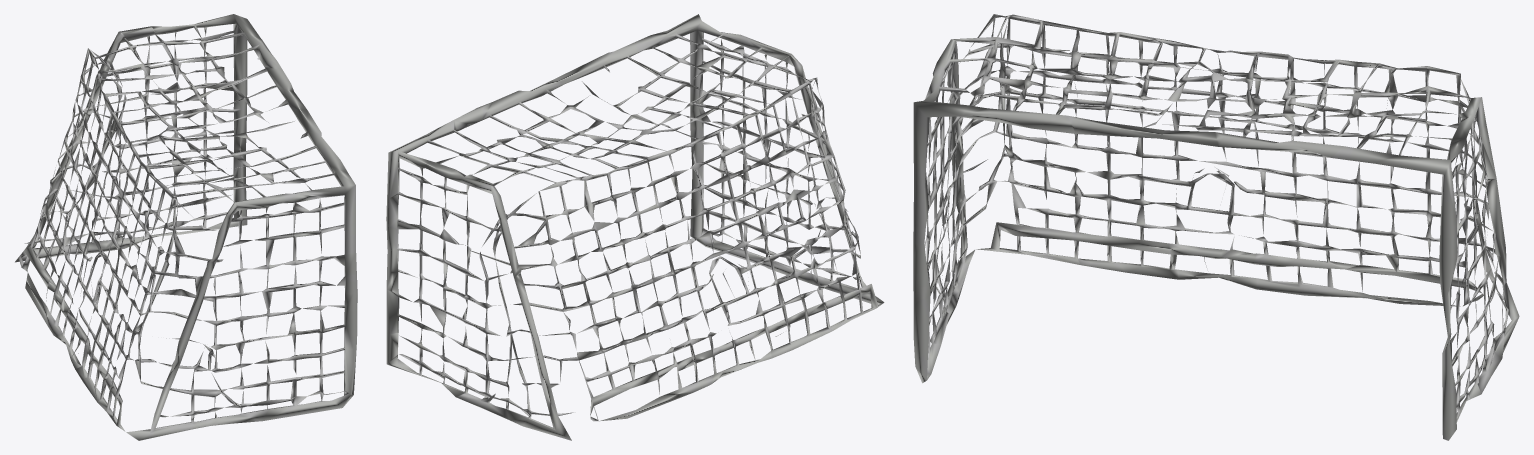
The model's file is goal.glb.
3 renders of one model, left to right at view 1: azimuth 30°, elevation 25°; view 2: azimuth 150°, elevation 25°; view 3: azimuth 270°, elevation 25°, orthographic. The views are drawn at different scales.
Parts seen in each view (by area): view 1: tripo_node_ed687e58-73ed-4830-be25-4341a0774521; view 2: tripo_node_ed687e58-73ed-4830-be25-4341a0774521; view 3: tripo_node_ed687e58-73ed-4830-be25-4341a0774521.
Boxes of the visible parts, x1,y1,x2,y2 form: tripo_node_ed687e58-73ed-4830-be25-4341a0774521: (15,14,357,440); tripo_node_ed687e58-73ed-4830-be25-4341a0774521: (386,14,884,440); tripo_node_ed687e58-73ed-4830-be25-4341a0774521: (913,14,1519,440).
Size of the model in its own units: 0.7402 by 0.5201 by 0.9889.
Materials: 1 (1 with a texture image).
